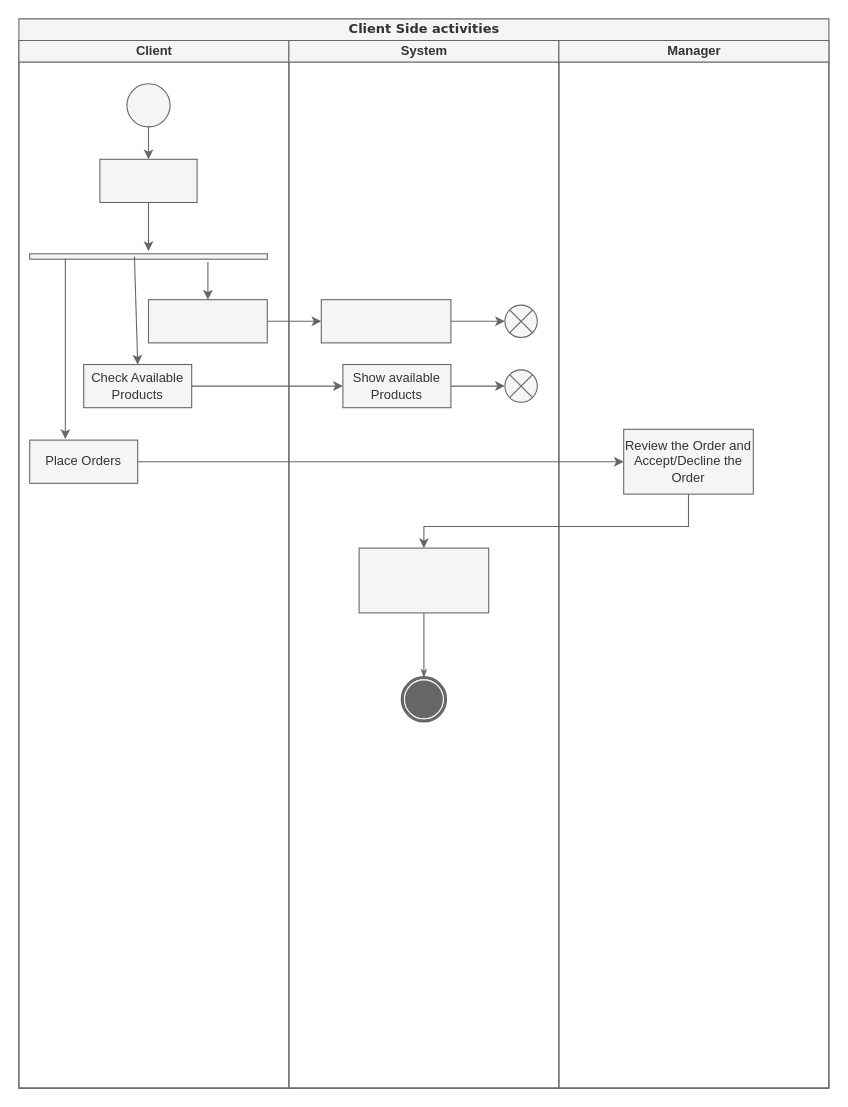
Image size: 848x1107. Some labels were removed from this diagram. The centre of each missing label's shape, as x and y in pixels:
Login: the point at 148,180
Retrieve Transaction data of the client: the point at 385,321
Uodate the Order Status: the point at 423,580
View Transaction History: the point at 207,321
